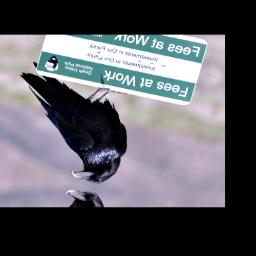Crow: (0, 58, 146, 188)
